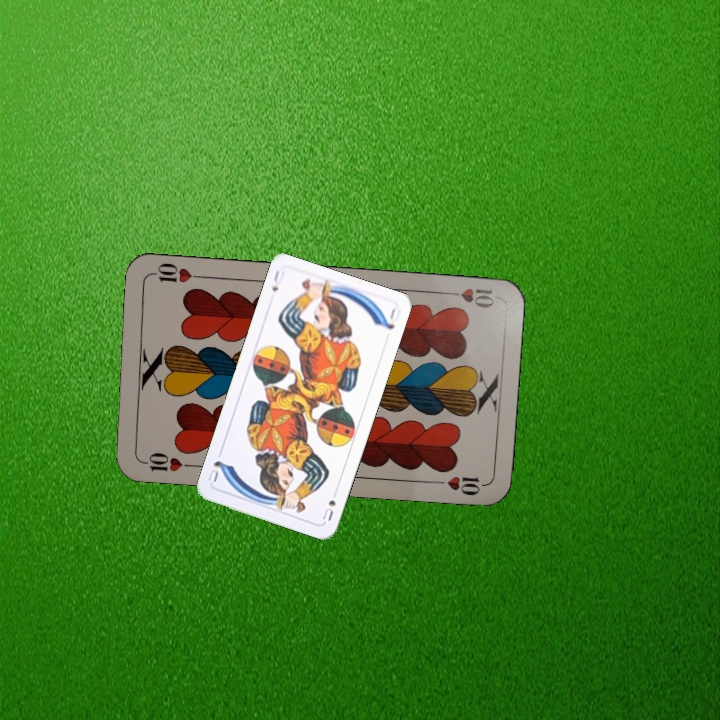H10: (440, 284, 497, 311), (137, 448, 196, 474)
SU: (318, 485, 340, 523), (268, 266, 287, 294)
